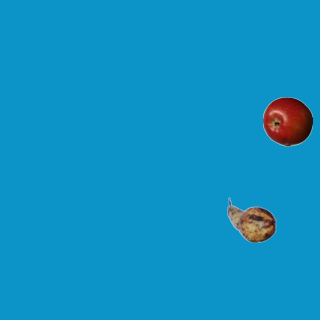Apple Braeburn: (262, 96, 312, 146)
Pear Abate: (226, 195, 276, 245)
